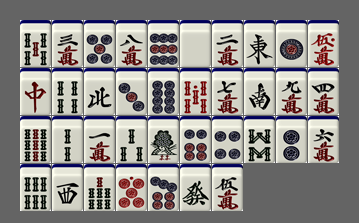0m: (308, 20, 339, 67)
0p: (116, 164, 147, 211)
0s: (180, 68, 211, 115)
1m: (84, 116, 115, 163)
1p: (276, 20, 307, 67)
1s: (148, 116, 179, 163)
1z: (244, 20, 275, 67)
2m: (212, 20, 243, 67)
2p: (276, 116, 307, 163)
2s: (52, 116, 83, 163)
2z: (244, 68, 275, 115)
3m: (52, 20, 83, 67)
3p: (116, 68, 147, 115)
3s: (116, 116, 147, 163)
3z: (52, 164, 83, 211)
4m: (308, 68, 339, 115)
4p: (212, 116, 243, 163)
4s: (52, 68, 83, 115)
4z: (84, 68, 115, 115)
5m: (212, 164, 243, 211)
5p: (84, 20, 115, 67)
5s: (20, 20, 51, 67)
5z: (180, 20, 211, 67)
6m: (308, 116, 339, 163)
6p: (180, 116, 211, 163)
6s: (20, 164, 51, 211)
6z: (180, 164, 211, 211)
7m: (212, 68, 243, 115)
7p: (148, 164, 179, 211)
7s: (84, 164, 115, 211)
7z: (20, 68, 51, 115)
8m: (116, 20, 147, 67)
8p: (148, 68, 179, 115)
8s: (244, 116, 275, 163)
9m: (276, 68, 307, 115)
9p: (148, 20, 179, 67)
9s: (20, 116, 51, 163)
